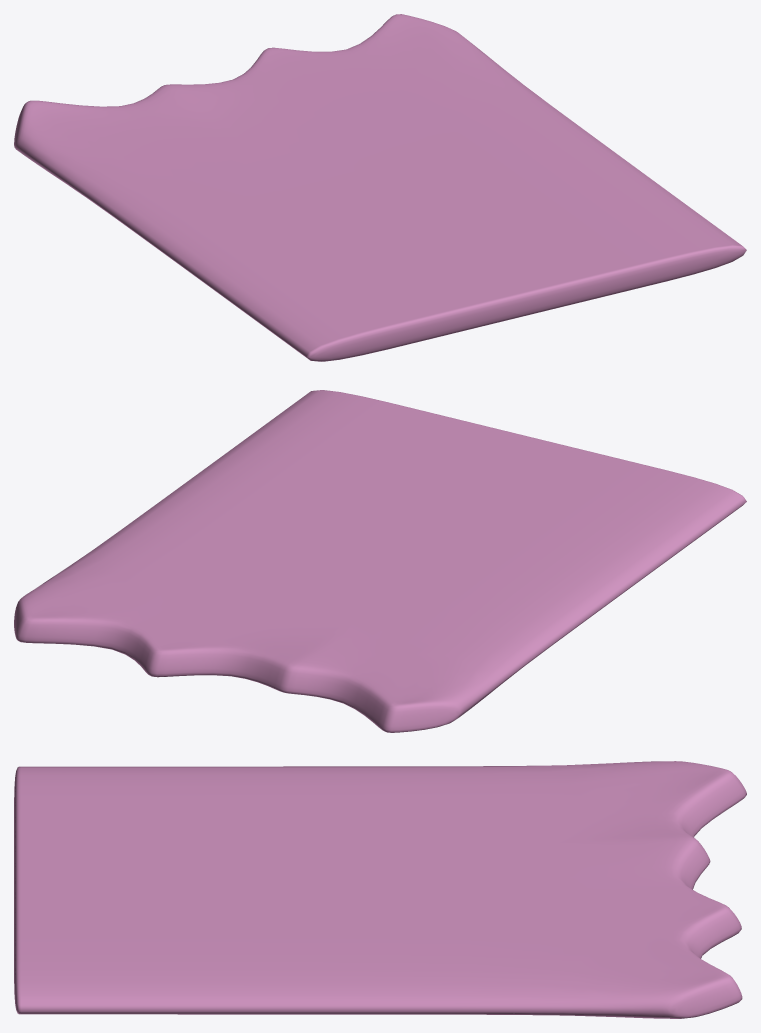
File: CapePieceStraight_TornBack.fbx
3 renders of one model, top to bottom at view 1: azimuth 30°, elevation 25°; view 2: azimuth 150°, elevation 25°; view 3: azimuth 270°, elevation 25°, orthographic. The views are drawn at different scales.
Visible parts, largest first — view 1: CapePieceStraight_TornBack; view 2: CapePieceStraight_TornBack; view 3: CapePieceStraight_TornBack.
Part boxes in pixels (bbox=[...]): CapePieceStraight_TornBack: bbox=[14, 14, 746, 361]; CapePieceStraight_TornBack: bbox=[14, 390, 746, 732]; CapePieceStraight_TornBack: bbox=[14, 761, 746, 1018].
Size of the model in its own units: 0.7857 by 0.0479 by 0.9946.
